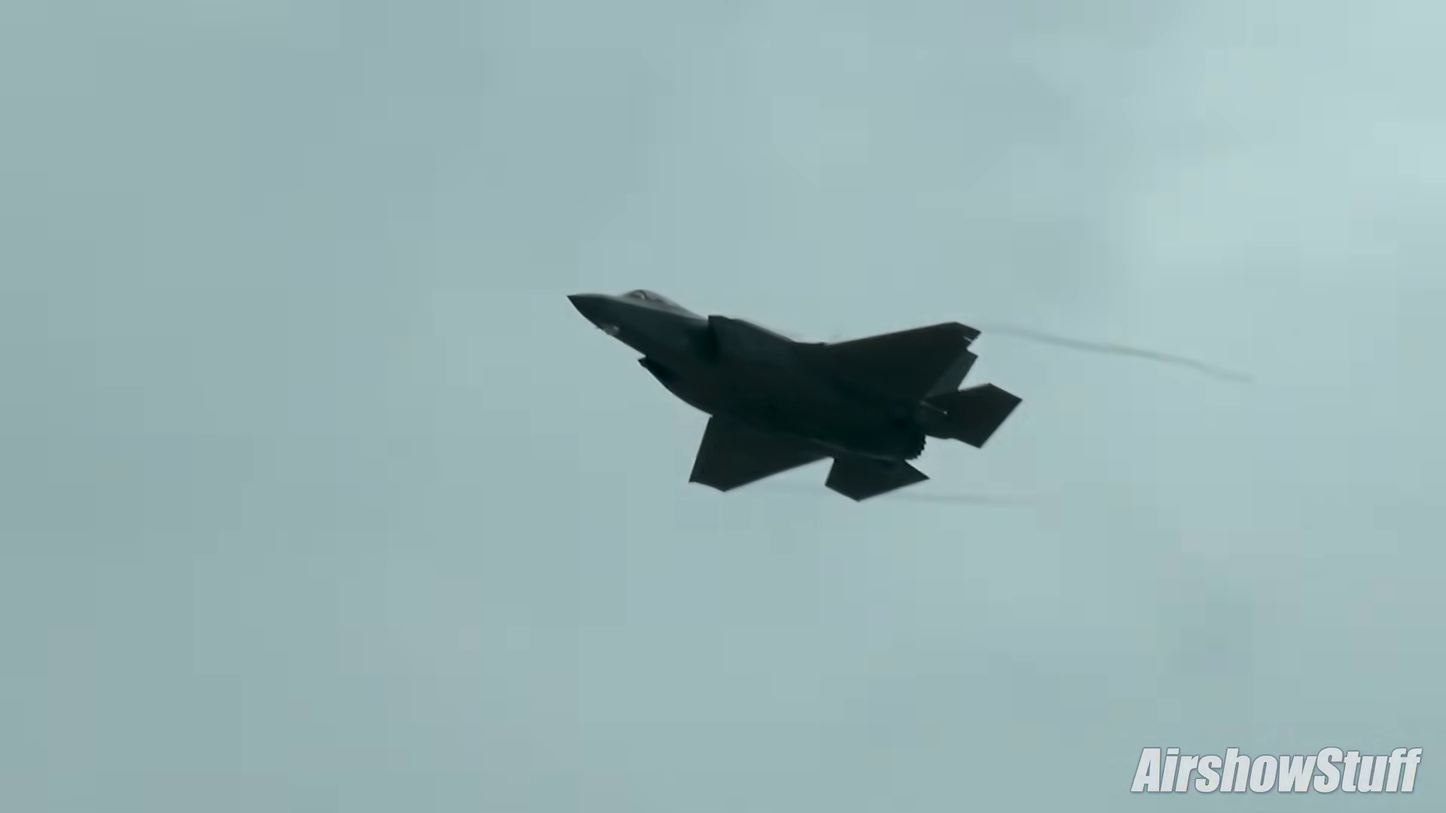F35: (559, 282, 1026, 508)
